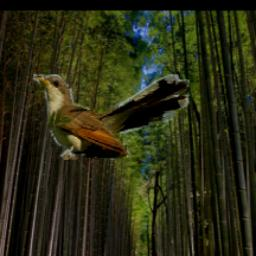Cuckoo: (33, 74, 190, 160)
